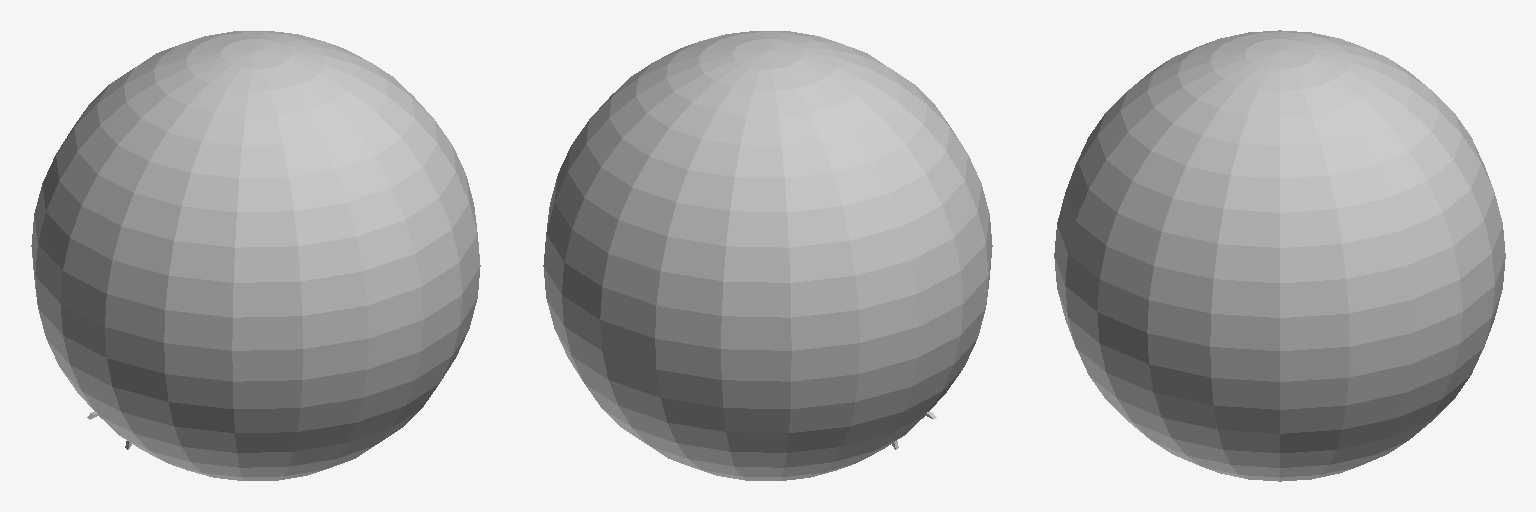
Rendered from powerup_range.obj.
3 views of the same model, side by side, from view 1: azimuth 30°, elevation 25°; view 2: azimuth 150°, elevation 25°; view 3: azimuth 270°, elevation 25° (orthographic).
Visible parts, largest first — view 1: PowerUp_Knife:pSphere1; view 2: PowerUp_Knife:pSphere1; view 3: PowerUp_Knife:pSphere1.
Part boxes in pixels (x1,y1,x2,y2): PowerUp_Knife:pSphere1: (31, 31, 480, 480); PowerUp_Knife:pSphere1: (543, 31, 992, 480); PowerUp_Knife:pSphere1: (1054, 30, 1505, 481).
Bounding box in the file's own units: 3 × 3 × 3.